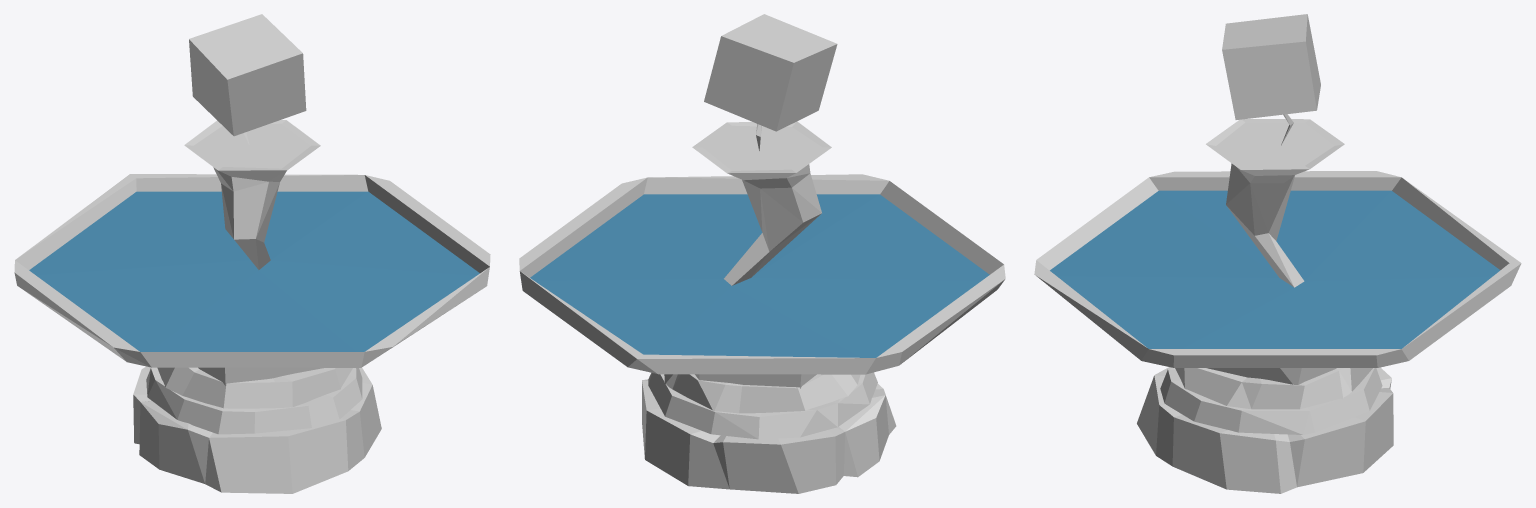
Rendered from ENV_Fountain1_Placeholder.fbx.
3 renders of one model, left to right at view 1: azimuth 30°, elevation 25°; view 2: azimuth 150°, elevation 25°; view 3: azimuth 270°, elevation 25°, orthographic.
Visible parts, largest first — view 1: Cube.007; view 2: Cube.007; view 3: Cube.007.
Boxes of the visible parts, x1,y1,x2,y2 form: Cube.007: [14, 14, 490, 493]; Cube.007: [519, 14, 1005, 493]; Cube.007: [1034, 14, 1521, 493].
Bounding box in the file's own units: 549 × 493 × 509.
